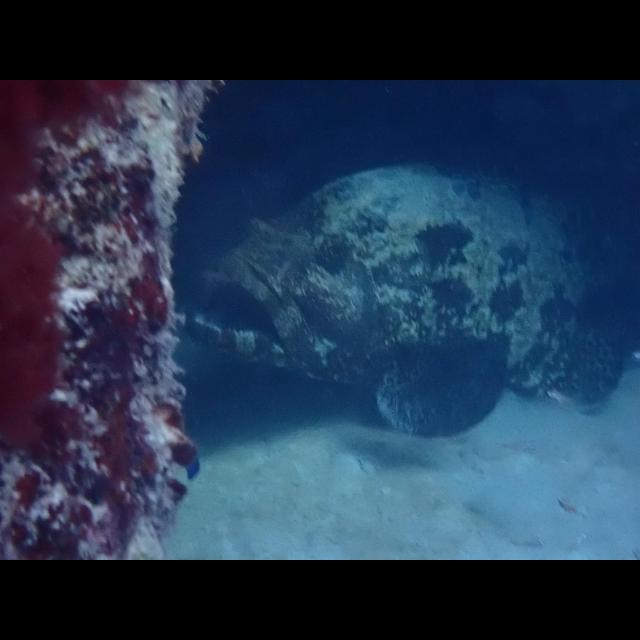Groupers: (180, 164, 632, 436)
